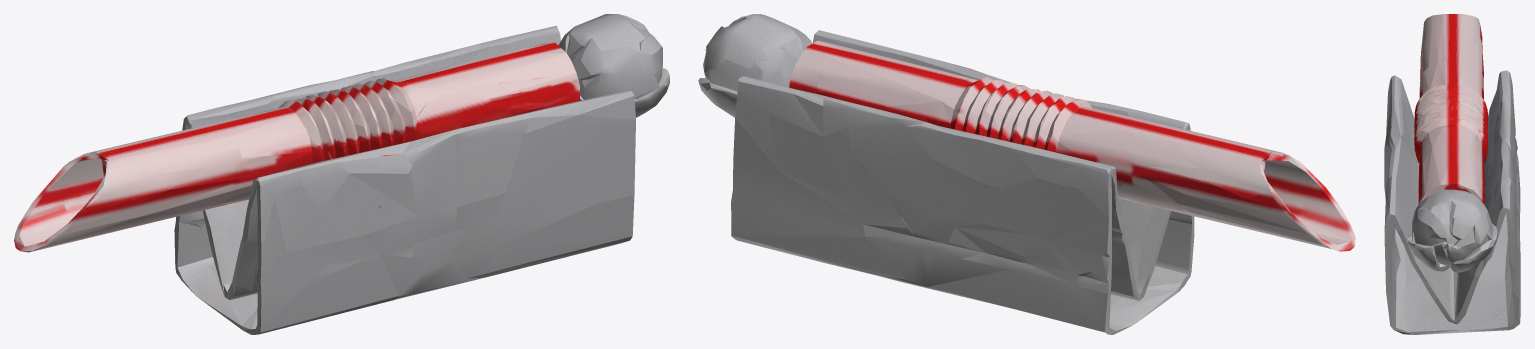
Rendered from meshy.glb.
The picture shows the model from 3 angles, left to right: view 1: azimuth 30°, elevation 25°; view 2: azimuth 150°, elevation 25°; view 3: azimuth 270°, elevation 25°; orthographic projection. The views are drawn at different scales.
Parts seen in each view (by area): view 1: Mesh_0; view 2: Mesh_0; view 3: Mesh_0.
Boxes of the visible parts, x1=… form: Mesh_0: x1=14, y1=14, x2=669, y2=334; Mesh_0: x1=698, y1=14, x2=1355, y2=334; Mesh_0: x1=1384, y1=14, x2=1520, y2=334.
Bounding box in the file's own units: 1.9 × 0.5502 × 0.4583.
1 material, 1 textured.
